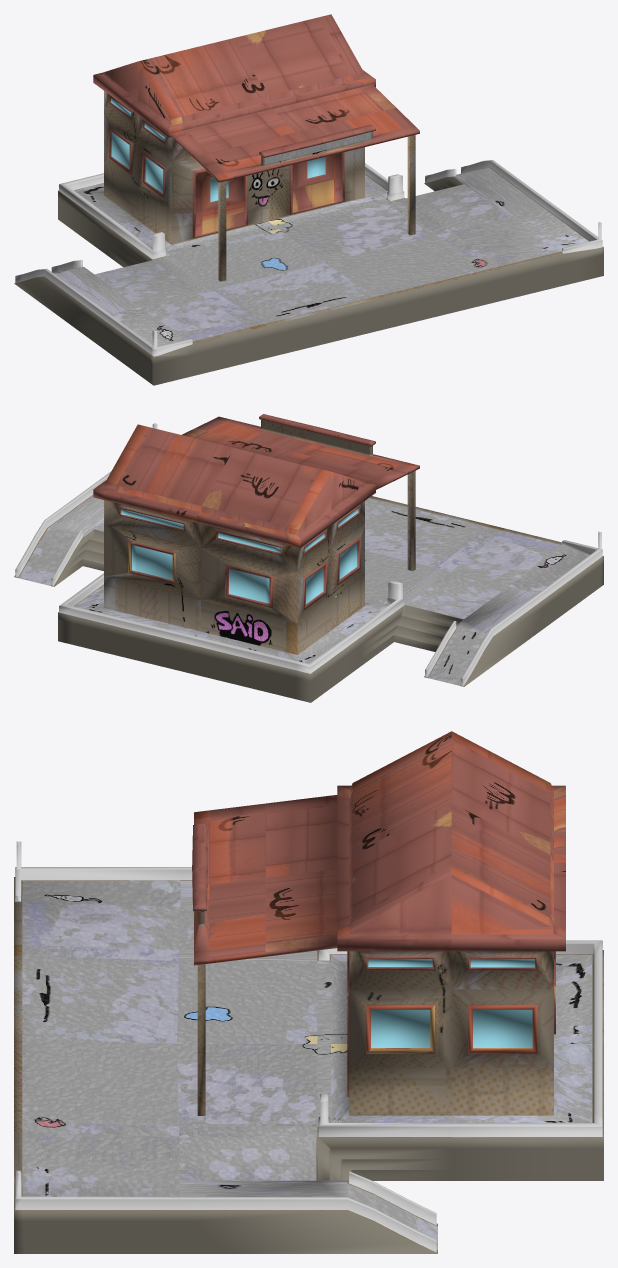
Rendered from trainstationhouse.fbx.
3 views of the same model, one above another, from view 1: azimuth 30°, elevation 25°; view 2: azimuth 150°, elevation 25°; view 3: azimuth 270°, elevation 25° (orthographic). The views are drawn at different scales.
Parts seen in each view (by area): view 1: TrainStation.001, TrainStation.002; view 2: TrainStation.001, TrainStation.002; view 3: TrainStation.001, TrainStation.002.
Boxes of the visible parts, bbox=[...] form: TrainStation.001: bbox=[14, 14, 603, 385]; TrainStation.002: bbox=[15, 71, 603, 385]; TrainStation.001: bbox=[14, 414, 603, 702]; TrainStation.002: bbox=[15, 425, 602, 702]; TrainStation.001: bbox=[14, 731, 603, 1253]; TrainStation.002: bbox=[14, 783, 603, 1253].
Bounding box in the file's own units: 3831 × 1523 × 2865.
